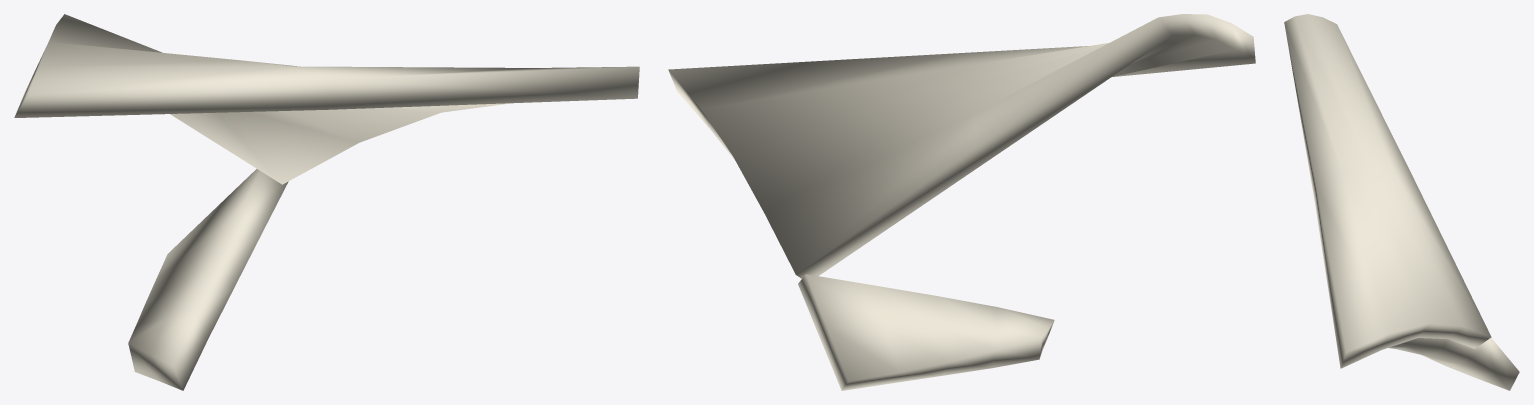
3 views of the same model, side by side, from view 1: azimuth 30°, elevation 25°; view 2: azimuth 150°, elevation 25°; view 3: azimuth 270°, elevation 25° (orthographic). The views are drawn at different scales.
Parts seen in each view (by area): view 1: ZA_f1cdb1de418fb49d; view 2: ZA_f1cdb1de418fb49d; view 3: ZA_f1cdb1de418fb49d.
Boxes of the visible parts, x1=… form: ZA_f1cdb1de418fb49d: x1=14, y1=14, x2=639, y2=390; ZA_f1cdb1de418fb49d: x1=668, y1=14, x2=1255, y2=390; ZA_f1cdb1de418fb49d: x1=1284, y1=14, x2=1519, y2=390.
Size of the model in its own units: 0.0477 by 0.0286 by 0.0215.
